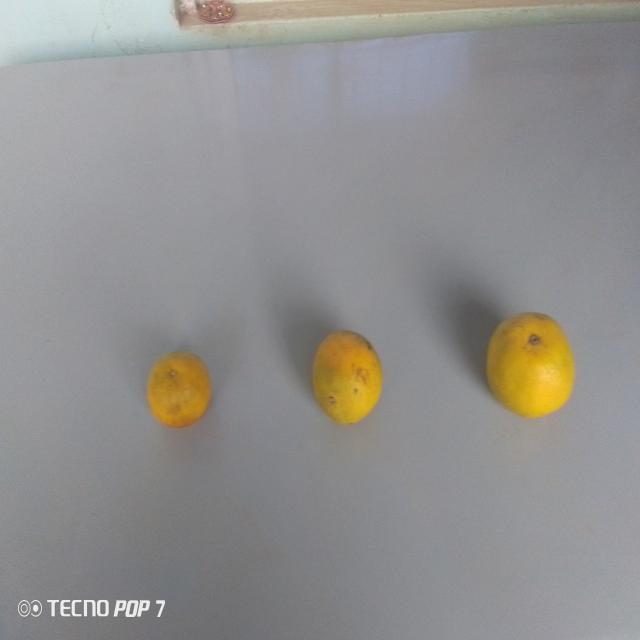Ripe orange: (480, 307, 580, 422), (302, 320, 388, 434), (140, 343, 216, 439)
